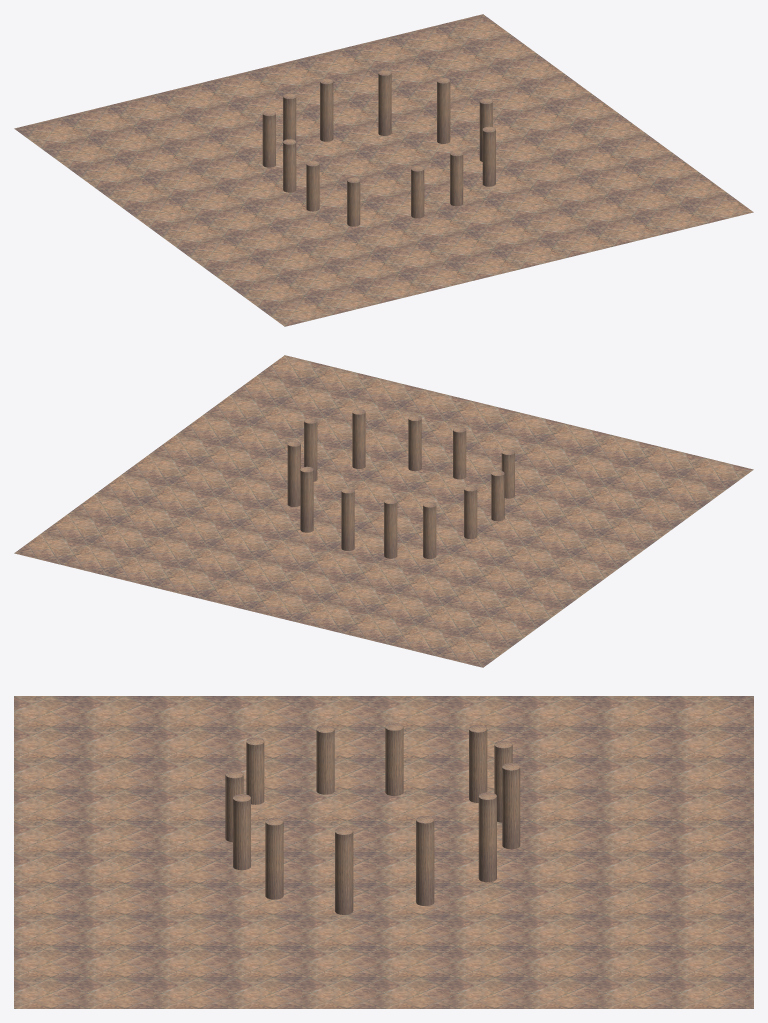
File: LightingScene.dae
3 views of the same model, one above another, from view 1: azimuth 30°, elevation 25°; view 2: azimuth 150°, elevation 25°; view 3: azimuth 270°, elevation 25° (orthographic). The views are drawn at different scales.
Visible parts, largest first — view 1: Plane; view 2: Plane; view 3: Plane.
Boxes of the visible parts, x1,y1,x2,y2 form: Plane: (14,14,753,326); Plane: (14,355,753,667); Plane: (14,696,753,1008).
Size of the model in its own units: 59.3 by 59.3 by 9.45.
